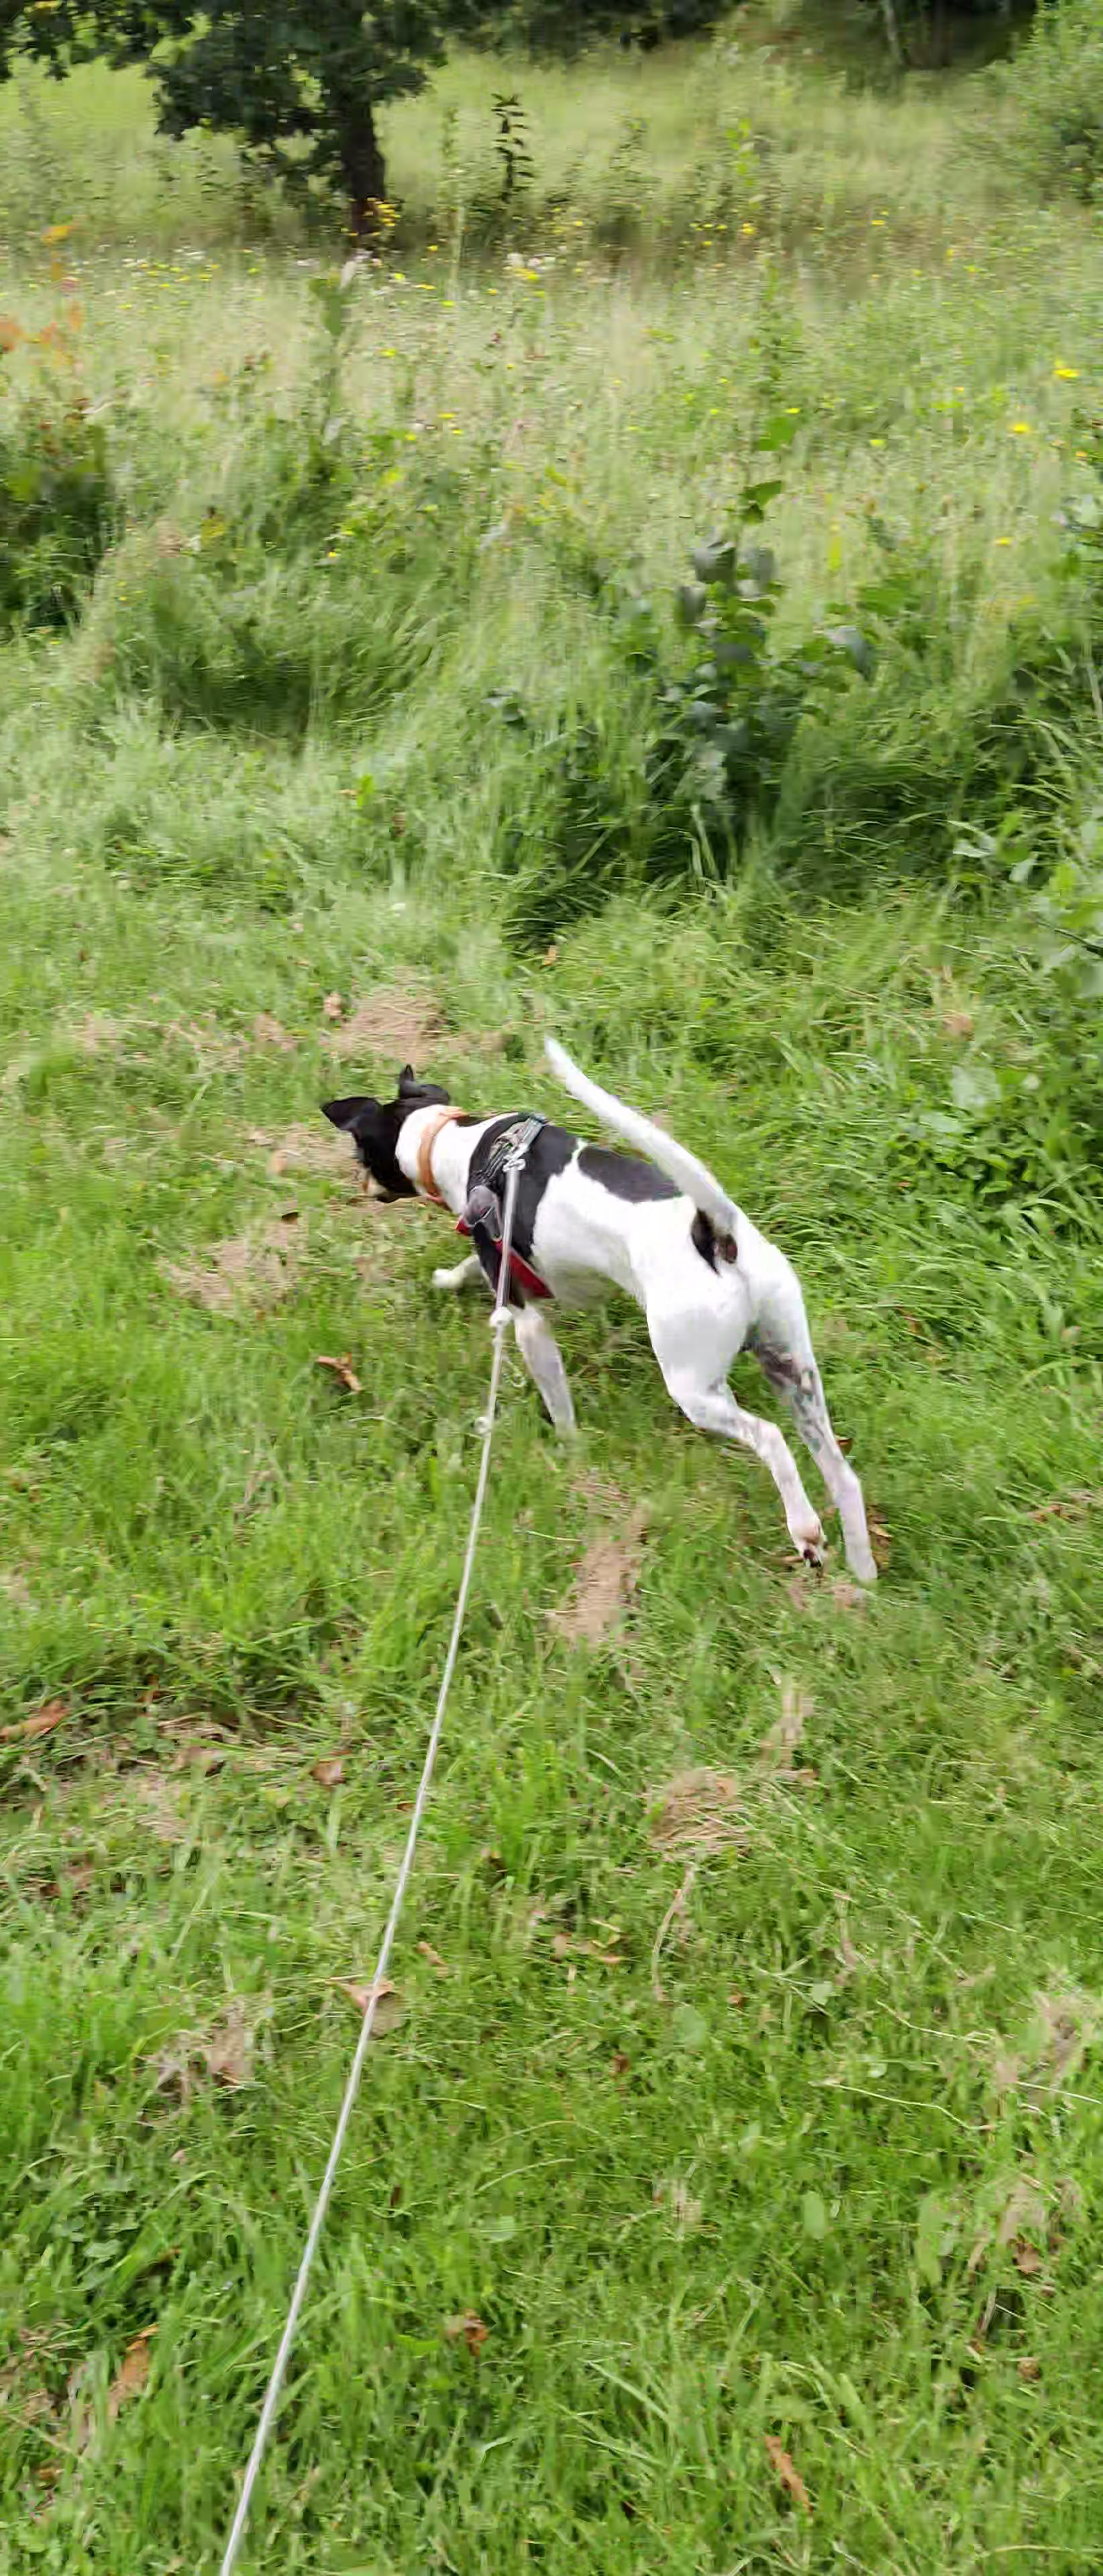Dog: (311, 1020, 899, 1592)
